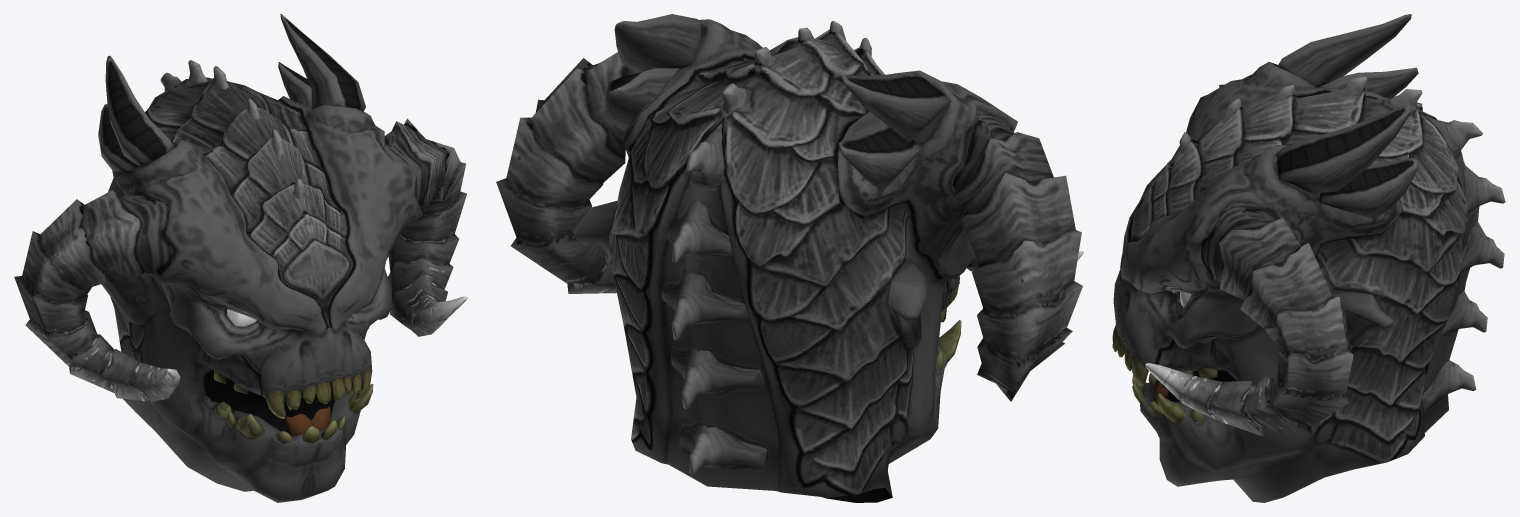
The model's file is SurvivorMale_Head_Mask_Demon_LOD0.glb.
The picture shows the model from 3 angles, left to right: view 1: azimuth 30°, elevation 25°; view 2: azimuth 150°, elevation 25°; view 3: azimuth 270°, elevation 25°; orthographic projection. The views are drawn at different scales.
Parts seen in each view (by area): view 1: Hoodie; view 2: Hoodie; view 3: Hoodie.
Part boxes in pixels (<box>): Hoodie: <box>14,14,467,502</box>; Hoodie: <box>496,14,1083,502</box>; Hoodie: <box>1112,14,1505,502</box>.
Bounding box in the file's own units: 0.3916 × 0.3468 × 0.285.
Materials: 1 (1 with a texture image).
